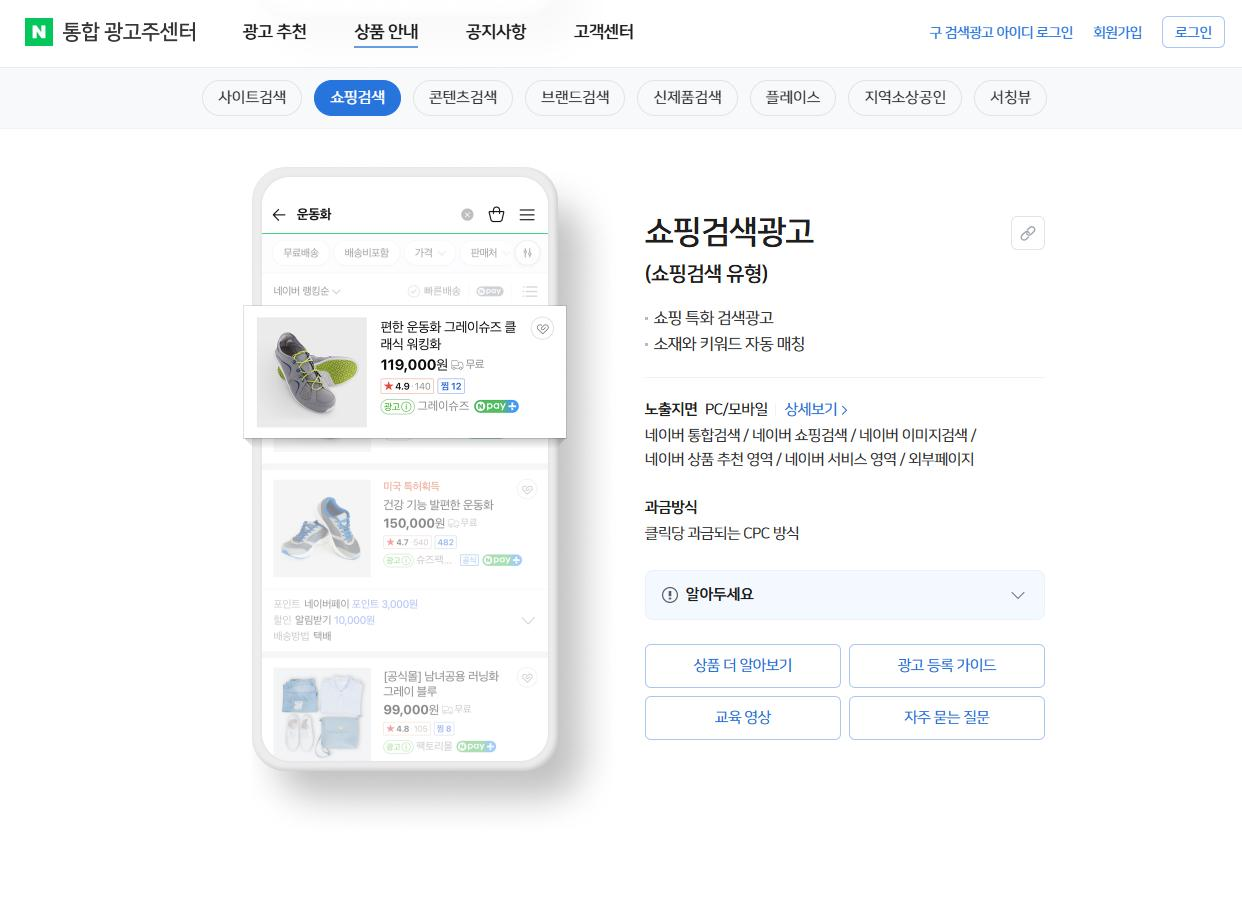button: (848, 641, 1048, 692), (643, 641, 844, 691), (848, 695, 1048, 744), (643, 695, 843, 742), (846, 76, 967, 122), (634, 72, 740, 124), (196, 76, 306, 122), (413, 74, 517, 120), (523, 74, 626, 119), (928, 20, 1077, 50), (312, 76, 405, 120), (1156, 9, 1236, 59), (746, 77, 841, 119), (971, 78, 1054, 121), (459, 11, 536, 57), (237, 11, 316, 53), (347, 13, 424, 54), (999, 206, 1059, 257), (570, 15, 649, 52), (779, 395, 861, 426), (1090, 14, 1150, 52)
checkbox: (643, 565, 1046, 623)
